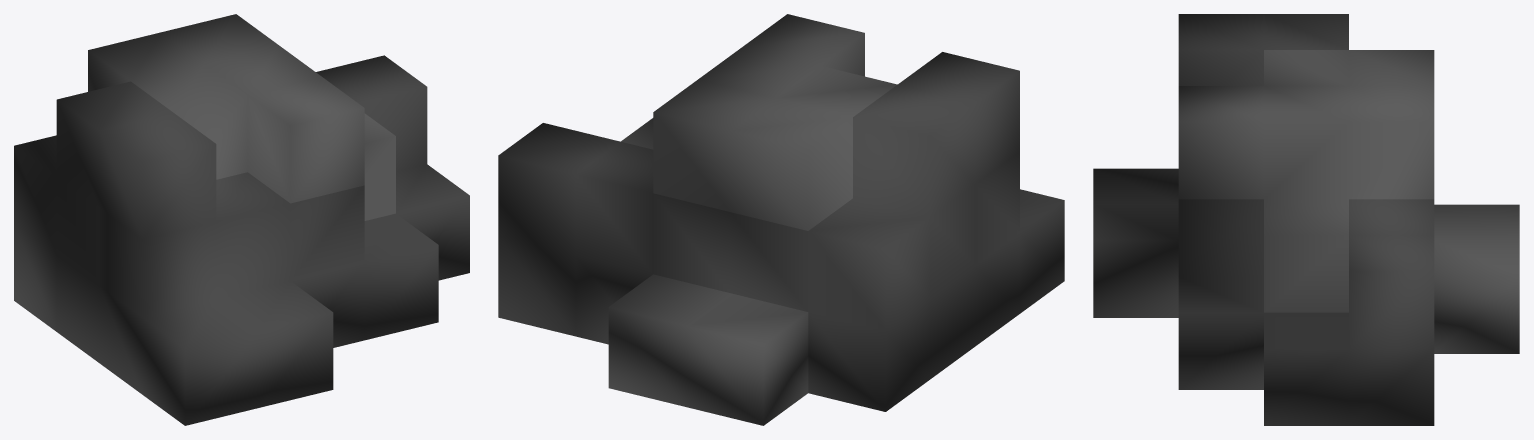
File: Rock.fbx
3 views of the same model, side by side, from view 1: azimuth 30°, elevation 25°; view 2: azimuth 150°, elevation 25°; view 3: azimuth 270°, elevation 25° (orthographic). The views are drawn at different scales.
Visible parts, largest first — view 1: Rock; view 2: Rock; view 3: Rock.
Part boxes in pixels (x1=…): Rock: x1=14, y1=14, x2=469, y2=425; Rock: x1=498, y1=14, x2=1064, y2=425; Rock: x1=1093, y1=14, x2=1519, y2=425.
Size of the model in its own units: 0.5 by 0.3 by 0.5.
